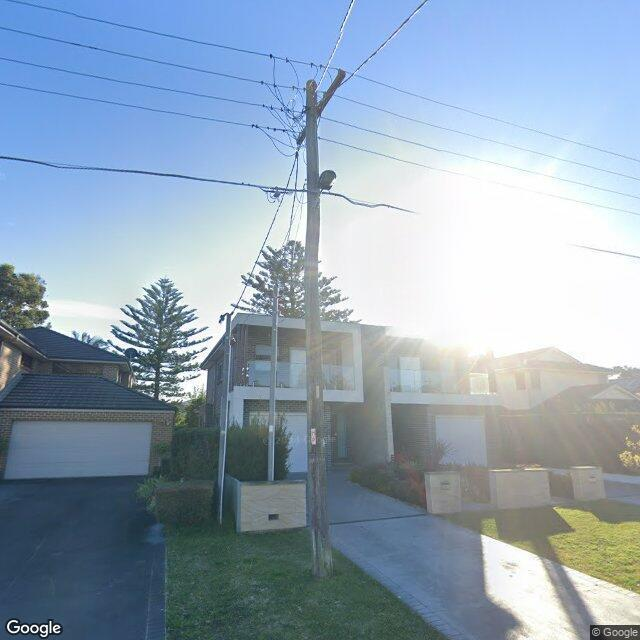crossarm: (296, 68, 346, 146)
steel-pole: (215, 313, 232, 525), (267, 282, 279, 483)
streetlight: (313, 168, 335, 206)
timber-pole: (304, 80, 337, 576)
